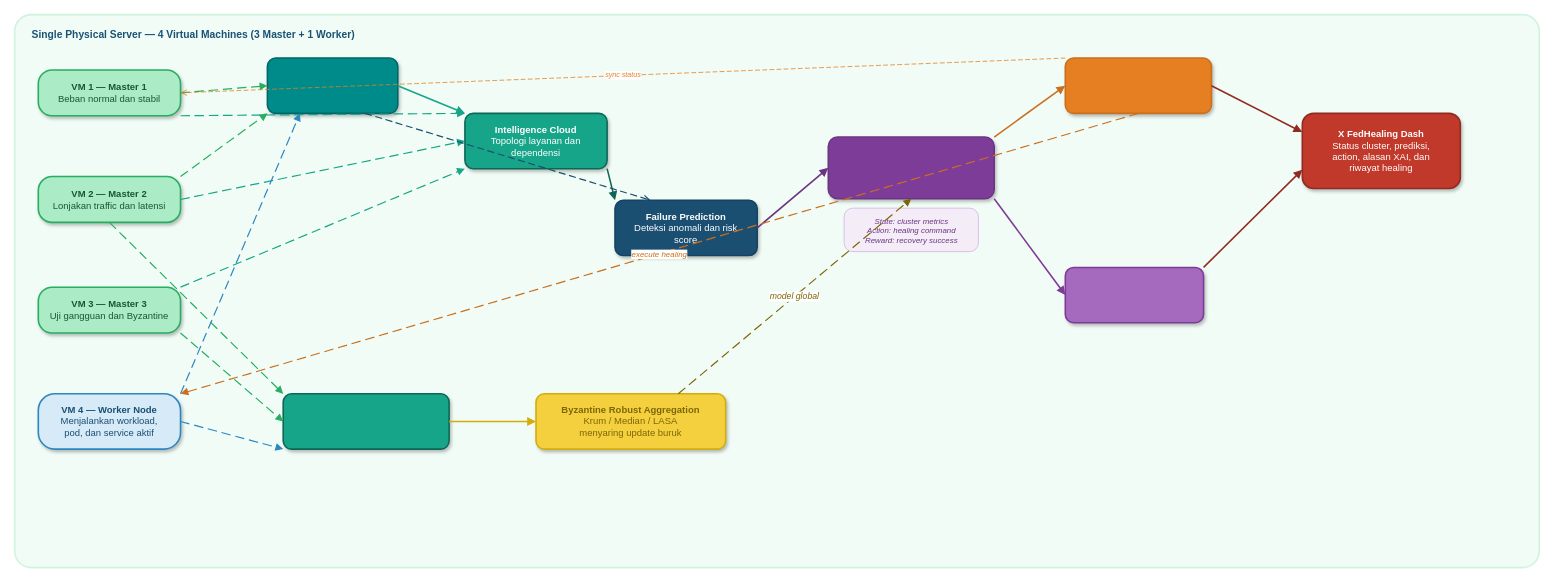
Some shapes in this 1553 by 581 pixel diagram are drawn without their labels. The centre of each missing label's shape, as x and y in pixels:
"AI Agent Mekanisme RL-Based Observe → Decide → Act → Reward" belongs at (x=911, y=169).
"Federated Learning Mengumpulkan model update dari tiap VM Master" belongs at (x=366, y=422).
"Layer XAI Menjelaskan alasan keputusan AI Agent" belongs at (x=1135, y=296).
"Monitoring Prometheus, log, dan trace" belongs at (x=333, y=86).
"Self Healing Engine Restart, scale, migrate, rate-limit" belongs at (x=1139, y=86).
